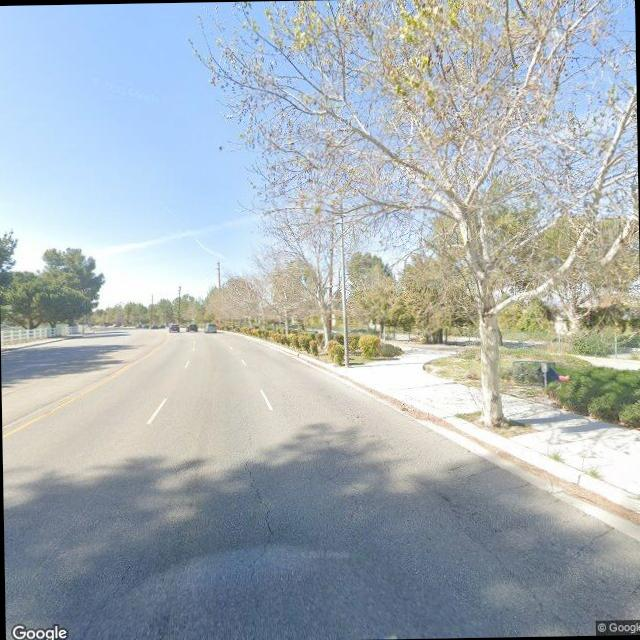pothole: (240, 448, 276, 570)
